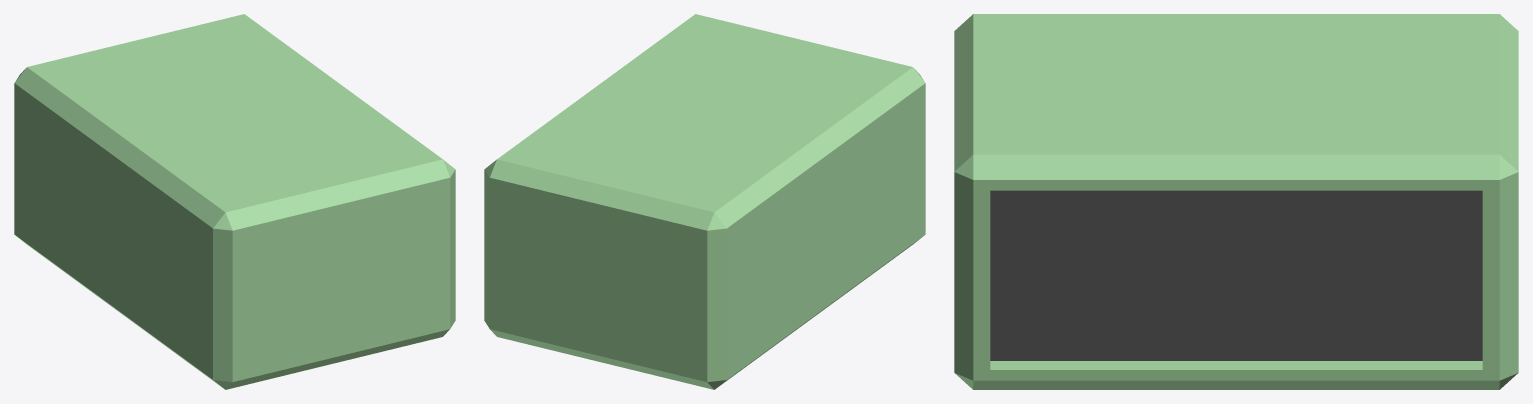
File: radio.fbx
3 renders of one model, left to right at view 1: azimuth 30°, elevation 25°; view 2: azimuth 150°, elevation 25°; view 3: azimuth 270°, elevation 25°, orthographic. The views are drawn at different scales.
Parts seen in each view (by area): view 1: pCube14; view 2: pCube14; view 3: pCube14.
Boxes of the visible parts, bbox=[...] form: pCube14: bbox=[14, 14, 455, 389]; pCube14: bbox=[484, 14, 925, 389]; pCube14: bbox=[954, 14, 1518, 389].
Size of the model in its own units: 18.56 by 12.99 by 28.24.
